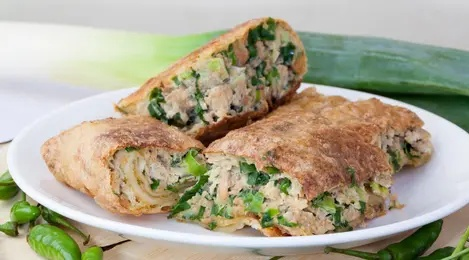martabak: (38, 16, 434, 237)
